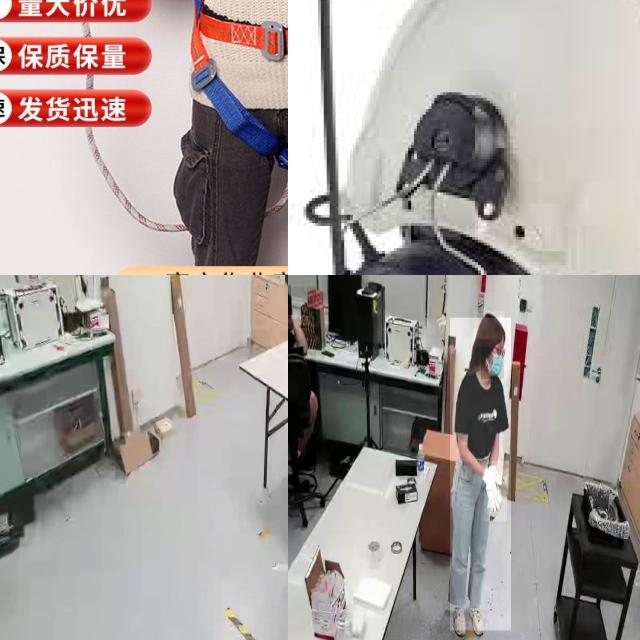Ear-protection: (318, 80, 544, 275)
Harness: (186, 0, 288, 172)
face_mask: (481, 347, 504, 379)
hand_glove: (484, 461, 508, 522)
hand_noglove: (288, 315, 298, 330)
head_nohelmet: (473, 310, 505, 340)
person: (450, 318, 512, 632), (288, 286, 316, 493)
shoes: (467, 598, 485, 640), (448, 602, 467, 640)
